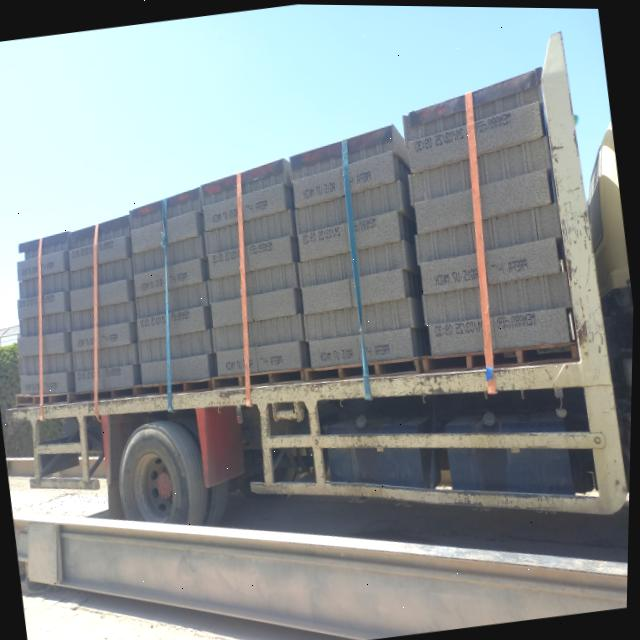bricks: (347, 68, 574, 362), (18, 201, 168, 397), (241, 143, 362, 372), (165, 175, 244, 382)
